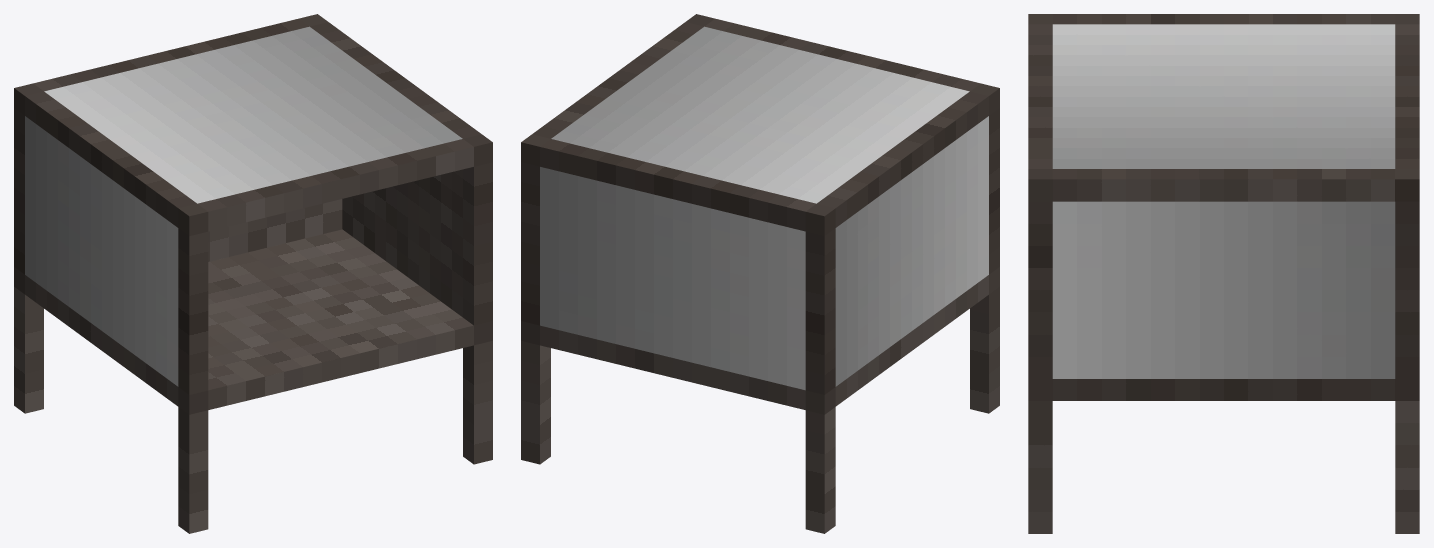
Rendered from temperer.obj.
The picture shows the model from 3 angles, left to right: view 1: azimuth 30°, elevation 25°; view 2: azimuth 150°, elevation 25°; view 3: azimuth 270°, elevation 25°; orthographic projection. The views are drawn at different scales.
Parts seen in each view (by area): view 1: Cube; view 2: Cube; view 3: Cube.
Boxes of the visible parts, x1=… form: Cube: x1=14, y1=14, x2=492, y2=533; Cube: x1=521, y1=14, x2=999, y2=533; Cube: x1=1028, y1=14, x2=1419, y2=533.
Size of the model in its own units: 1 by 1 by 1.
